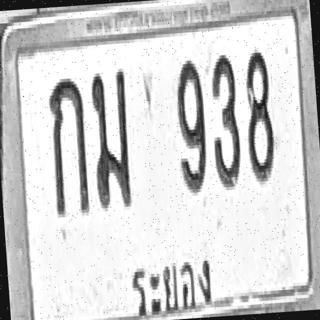A01: (46, 73, 90, 216)
A33: (88, 65, 133, 208)
N03: (207, 51, 242, 188)
N08: (241, 47, 276, 180)
N09: (173, 55, 208, 192)
P53: (125, 242, 218, 320)
